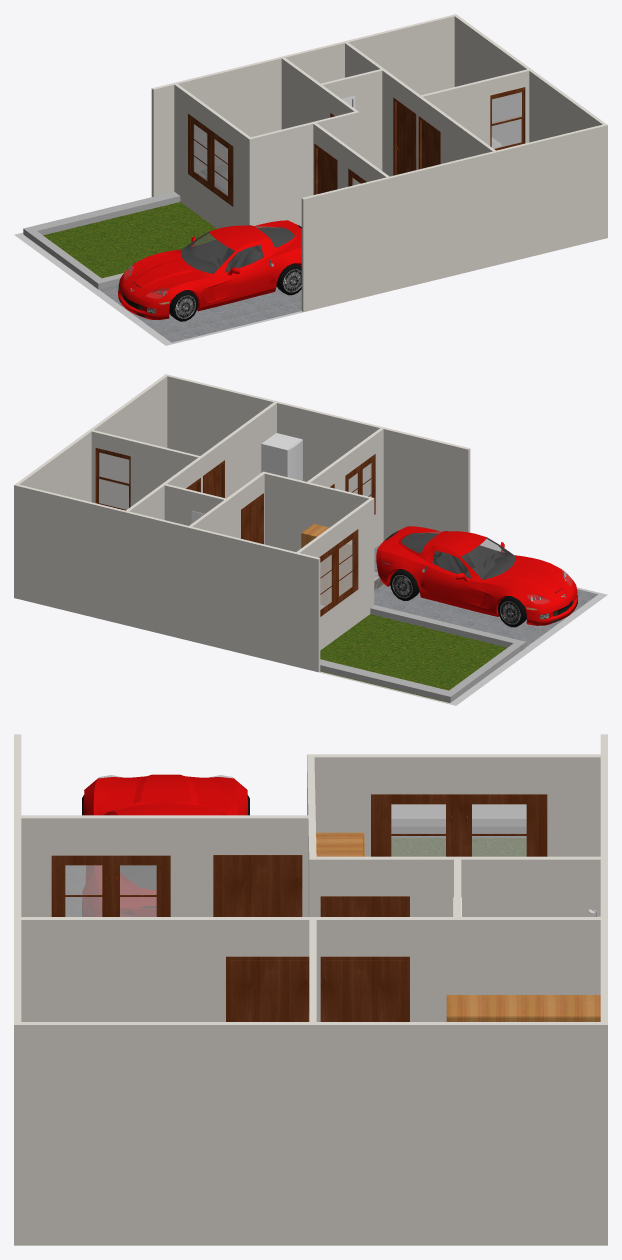
3 renders of one model, top to bottom at view 1: azimuth 30°, elevation 25°; view 2: azimuth 150°, elevation 25°; view 3: azimuth 270°, elevation 25°, orthographic. The views are drawn at different scales.
Visible parts, largest first — view 1: rumah6; view 2: rumah6; view 3: rumah6.
Part boxes in pixels (left/top/right/bottom): rumah6: left=14, top=14, right=607, bottom=345; rumah6: left=14, top=374, right=607, bottom=705; rumah6: left=14, top=734, right=607, bottom=1245.
Size of the model in its own units: 1025 by 250 by 610.
69 materials, 21 textured.
